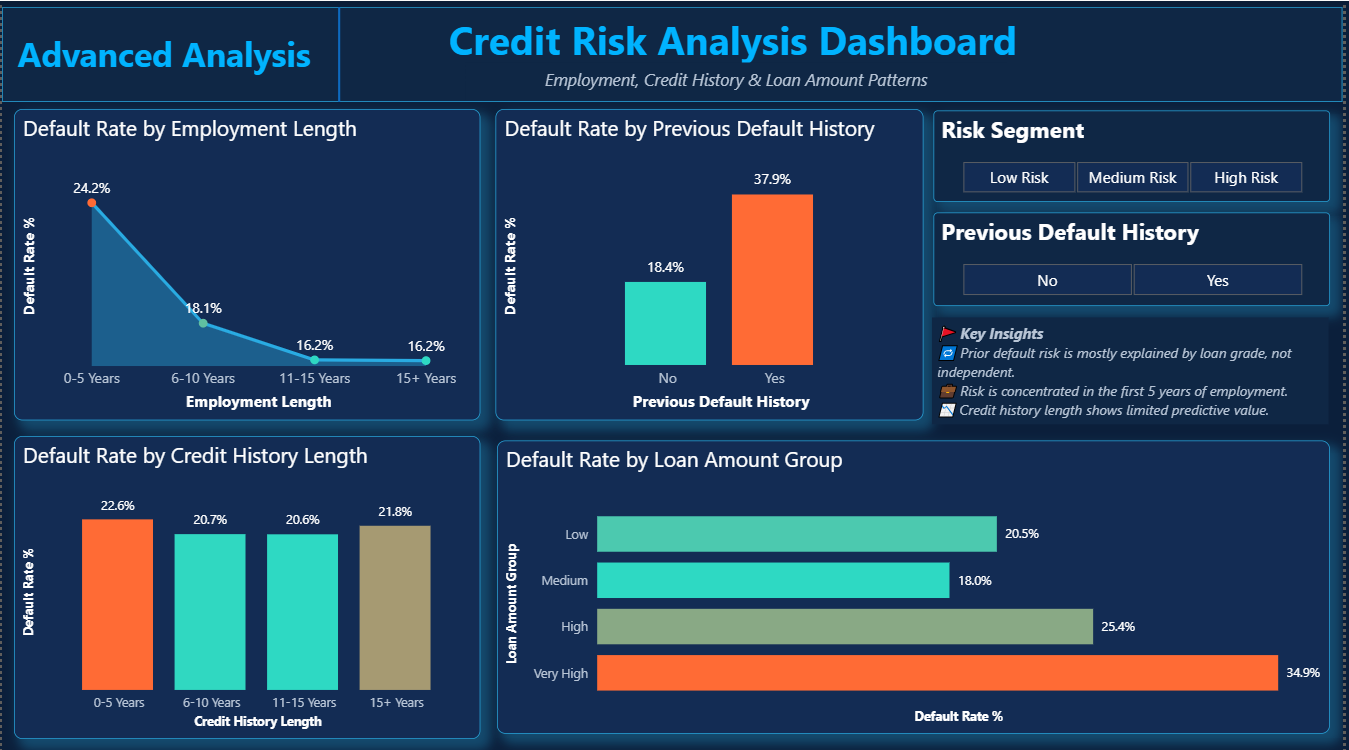

This screenshot's page, from the dashboard's own definition file:
{"tool":"powerbi","page":{"name":"Risk Analysis","canvas":[1280,720],"ordinal":2},"visuals":[{"type":"textbox","box":[0,5.8,1280,90.7],"z":0},{"type":"textbox","box":[442.6,58.7,517.1,35.8],"z":1000},{"type":"textbox","box":[3.2,23.3,303.8,70],"z":2000},{"type":"shape","box":[303.8,6.4,36.6,90.7],"z":3000},{"type":"lineChart","title":"Default Rate by Employment Length","fields":{"Category":["public loans_view.Emp Length Group"],"Y":["public loans_view.Default Rate %"]},"box":[11.1,103.4,445.4,297.4],"z":4000},{"type":"clusteredColumnChart","title":"Default Rate by Credit History Length","fields":{"Y":["public loans_view.Default Rate %"],"Category":["public loans_view.Credit History Group"]},"box":[11.1,415.1,445.4,289.5],"z":5000},{"type":"clusteredColumnChart","title":"Default Rate by Previous Default History","fields":{"Y":["public loans_view.Default Rate %"],"Category":["public loans_view.cb_person_default_on_file"]},"box":[470.8,103.4,408.8,297.4],"z":6000},{"type":"slicer","title":"Risk Segment","fields":{"Values":["public loans_view.risk_segment"]},"box":[889.2,105,378.6,87.5],"z":7000},{"type":"slicer","title":"Previous Default History","fields":{"Values":["public loans_view.cb_person_default_on_file"]},"box":[889.2,202,378.6,89.1],"z":8000},{"type":"textbox","box":[888.3,301.7,378.3,102],"z":9000},{"type":"clusteredBarChart","title":"Default Rate by Loan Amount Group","fields":{"Y":["public loans_view.Default Rate %"],"Category":["public loans_view.loan_amount_group"]},"box":[472.4,419.9,795.3,279.9],"z":10000}]}

Visuals, with their boxes in screenshot pixels (x1, y1, x2, y2), scaled from the page's 1280x720 canvas onto the 1349x750 screenshot:
textbox: crop(0, 6, 1348, 101)
textbox: crop(466, 61, 1011, 98)
textbox: crop(3, 24, 324, 97)
shape: crop(320, 7, 359, 101)
"Default Rate by Employment Length" lineChart: crop(12, 108, 481, 418)
"Default Rate by Credit History Length" clusteredColumnChart: crop(12, 432, 481, 734)
"Default Rate by Previous Default History" clusteredColumnChart: crop(496, 108, 927, 418)
"Risk Segment" slicer: crop(937, 109, 1336, 201)
"Previous Default History" slicer: crop(937, 210, 1336, 303)
textbox: crop(936, 314, 1335, 421)
"Default Rate by Loan Amount Group" clusteredBarChart: crop(498, 437, 1336, 729)
